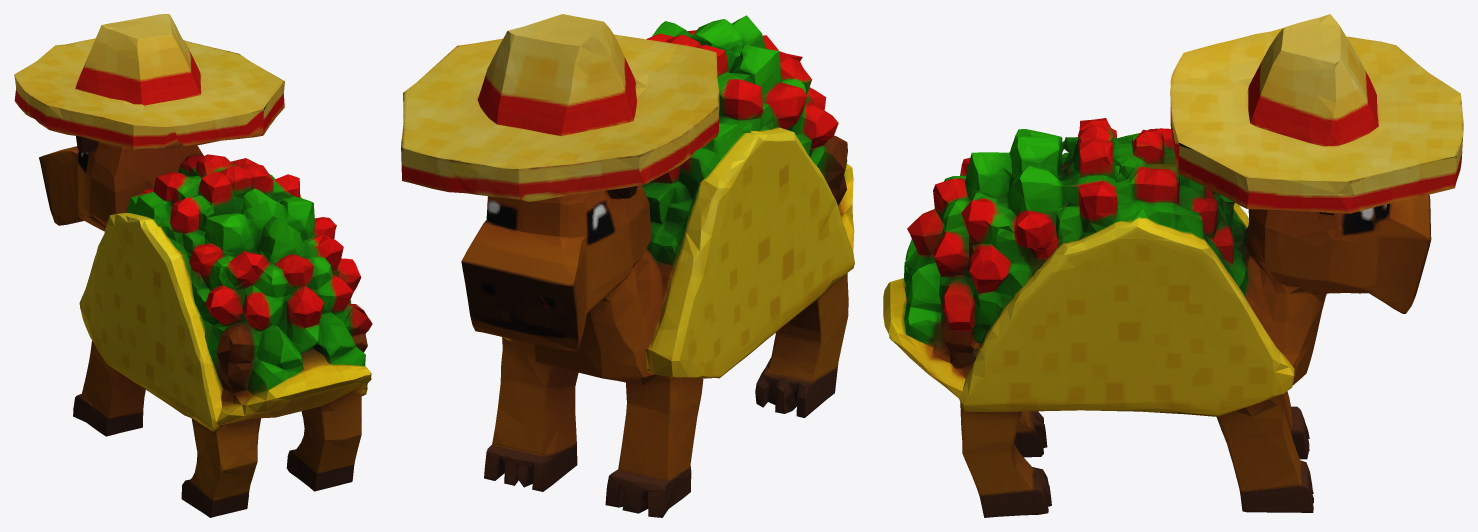
File: CapibaraTacoloco.glb
The picture shows the model from 3 angles, left to right: view 1: azimuth 30°, elevation 25°; view 2: azimuth 150°, elevation 25°; view 3: azimuth 270°, elevation 25°; orthographic projection. The views are drawn at different scales.
Visible parts, largest first — view 1: geometry_0; view 2: geometry_0; view 3: geometry_0.
Part boxes in pixels (x1=…): geometry_0: x1=14, y1=14, x2=372, y2=517; geometry_0: x1=401, y1=14, x2=854, y2=517; geometry_0: x1=883, y1=14, x2=1463, y2=517.
Size of the model in its own units: 0.6189 by 1 by 1.18.
Materials: 1 (1 with a texture image).
